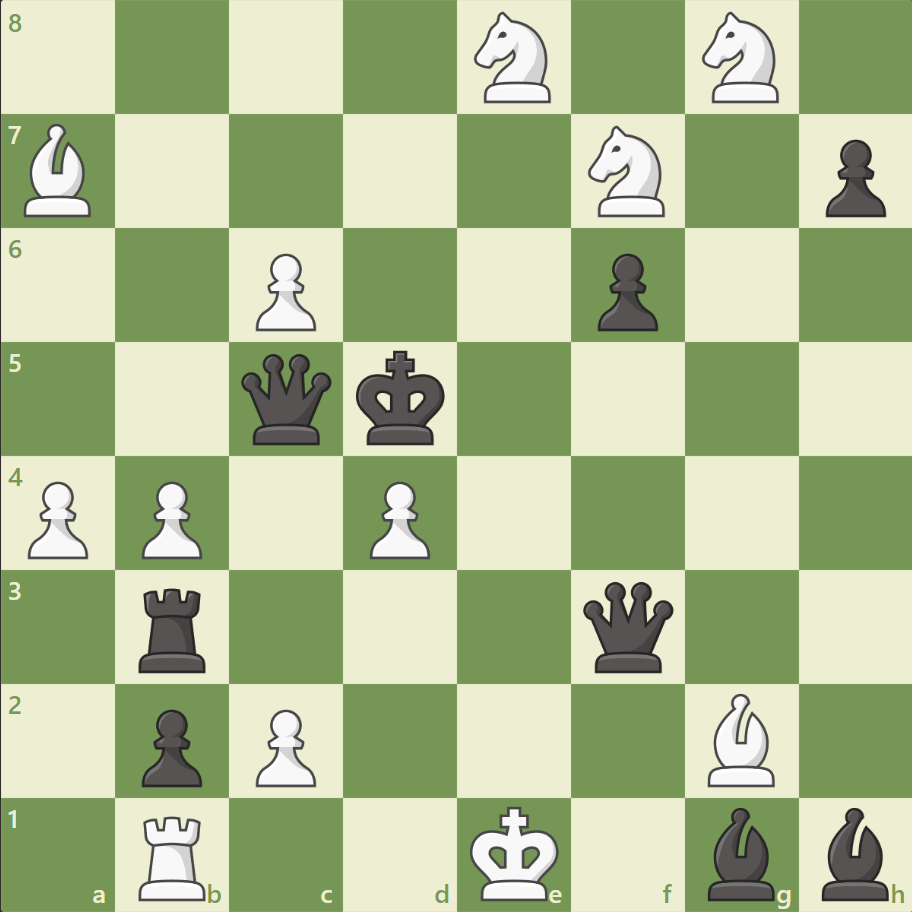B: (698, 687, 782, 790), (17, 120, 101, 222)
K: (465, 798, 565, 906)
N: (465, 7, 562, 110), (692, 7, 789, 110), (579, 121, 676, 223)
P: (247, 246, 322, 337), (20, 473, 95, 564), (133, 473, 208, 564), (247, 700, 322, 791), (361, 473, 435, 564)
R: (133, 806, 215, 904)
b: (698, 801, 782, 904), (812, 801, 896, 904)
k: (351, 344, 451, 452)
p: (133, 700, 208, 791), (815, 132, 889, 223), (588, 246, 662, 337)
q: (237, 349, 336, 449), (578, 576, 677, 676)
r: (133, 579, 215, 676)
